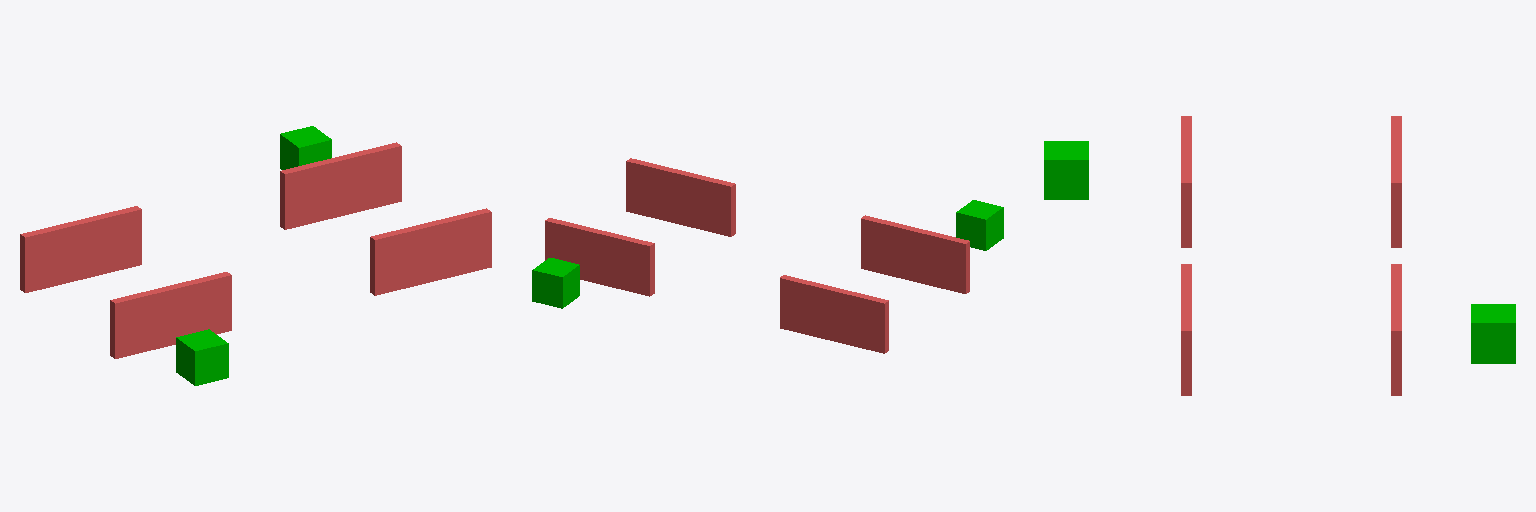
URDF robot description (maze3):
<?xml version="1.0"?>
  <robot name="maze3">
    <link name="base_link"/>

    <link name="table">
      <visual>
        <geometry>
          <mesh filename="[local-path]/rb_ws/src/robowflex/robowflex_dart/include/io/envs/meshes/maze3fix1.dae" scale = " 0.750 0.750 0.750"/>
        </geometry>
        <origin rpy="0 0 0" xyz="0 0 0" />

<material name = "">
          <color rgba="0.87450980392 0.87450980392 0.87058823529 1.0"/>
      </material>

      </visual>
      <collision>
        <geometry>
          <mesh filename="[local-path]/rb_ws/src/robowflex/robowflex_dart/include/io/envs/meshes/maze3fix1.dae" scale = " 0.750 0.750 0.750"/>
        </geometry>
        <origin rpy="0 0 0" xyz="0 0 0" />       
       </collision>
    </link>

    <link name="link_0">
      <visual>
        <geometry>
          <box size="0.1 0.1 0.1"/>
        </geometry>
        <origin rpy="0 0 0" xyz="0 0 0" />
      <material name = "">
          <color rgba="0.0 0.8 0.0 1.0"/>
      </material>
      </visual>
      <collision>
        <geometry>
          <box size="0.1 0.1 0.1"/>
        </geometry>
        <origin rpy="0 0 0" xyz="0 0 0" />       
       </collision>
    </link>


    <link name="cube_goal">
      <visual>
        <geometry>
          <box size="0.1 0.1 0.1"/>
        </geometry>
        <origin rpy="0 0 0" xyz="0 0 0" />
      <material name = "">
          <color rgba="0.0 0.8 0.0 0.4"/>
      </material>
      </visual>
    </link>


<link name ="cube_x"/>


     <link name="link_1">
      <visual>
        <geometry>
          <box size="0.35 0.025 0.16"/>
        </geometry>
        <origin rpy="0 0 0" xyz="0.0 0.0 0" />
        <material name = "">
          <color rgba="0.91372549019 0.39215686274 0.39215686274 1.0"/>
        </material>
      </visual>
      <collision>
        <geometry>
           <box size="0.35 0.025 0.16"/>
        </geometry>
        <origin rpy="0 0 0" xyz="0.0 0.0 0" />
        </collision>
    </link>

     <link name="link_2">
      <visual>
        <geometry>
          <box size="0.35 0.025 0.16"/>
        </geometry>
        <origin rpy="0 0 0" xyz="0.0 0.0 0" />
        <material name = "">
          <color rgba="0.91372549019 0.39215686274 0.39215686274 1.0"/>
        </material>
      </visual>
      <collision>
        <geometry>
           <box size="0.35 0.025 0.16"/>
        </geometry>
        <origin rpy="0 0 0" xyz="0.0 0.0 0" />
        </collision>
    </link>

     <link name="link_3">
      <visual>
        <geometry>
           <box size="0.35 0.025 0.16"/>
       </geometry>
        <origin rpy="0 0 0" xyz="0.0 0.0 0" />
        <material name = "">
          <color rgba="0.91372549019 0.39215686274 0.39215686274 1.0"/>
        </material>
      </visual>
      <collision>
        <geometry>
           <box size="0.35 0.025 0.16"/>
       </geometry>
        <origin rpy="0 0 0" xyz="0.0 0.0 0" />
        </collision>
    </link>

         <link name="link_4">
      <visual>
        <geometry>
           <box size="0.35 0.025 0.16"/>
       </geometry>
        <origin rpy="0 0 0" xyz="0.0 0.0 0" />
        <material name = "">
          <color rgba="0.91372549019 0.39215686274 0.39215686274 1.0"/>
        </material>
      </visual>
      <collision>
        <geometry>
           <box size="0.35 0.025 0.16"/>
       </geometry>
        <origin rpy="0 0 0" xyz="0.0 0.0 0" />
        </collision>
    </link>


<joint name="table_j" type="fixed">
    <origin rpy="0 0 0" xyz="0.9 -0.4 0.73" />
    <parent link="base_link" />
    <child link="table" />
    <axis xyz="0 1 0" />
  </joint>

<joint name="goal" type="fixed">
    <origin rpy="0 0 0" xyz="1.26 0.05 0.86" />
    <parent link="base_link" />
    <child link="cube_goal" />
</joint>

<joint name="link_0_joint_0" type="prismatic">
    <origin rpy="0 0 0" xyz="0.40 -0.9 0.86" />
    <parent link="base_link" />
    <child link="cube_x" />
   <axis xyz="1 0 0" />
  <limit lower="-0.07" upper="0.98" effort="0.05" velocity="1.57"/>
  </joint>


<joint name="link_0_joint_1" type="prismatic">
    <origin rpy="0 0 0" xyz="0.0 0 0.0" />
    <parent link="cube_x" />
    <child link="link_0" />
   <axis xyz="0 1 0" />
  <limit lower="-0.1" upper="1.11" effort="0.05" velocity="1.57"/>
  </joint>


    <joint name="link_1_joint_0" type="prismatic">
        <origin rpy="0 0 0" xyz="0.46 -0.634 0.86"/>
        <parent link="base_link"/>
        <child link="link_1"/>
        <axis xyz="1 0 0"/>
        <limit lower="0" upper="0.80" effort="5" velocity="1.57"/>
    </joint>

 <joint name="link_2_joint_0" type="prismatic">
    <origin rpy="0 0 0" xyz="0.46 -0.166 0.86"/>
        <parent link="base_link"/>
        <child link="link_2"/>
        <axis xyz="1 0 0"/>
        <limit lower="0" upper="0.80" effort="5" velocity="1.57"/>
  </joint>


    <joint name="link_3_joint_0" type="prismatic">
        <origin rpy="0 0 0" xyz="1.24 -0.634 0.86"/>
        <parent link="base_link"/>
        <child link="link_3"/>
        <axis xyz="1 0 0"/>
        <limit lower="-0.80" upper="0.0" effort="5" velocity="1.57"/>
    </joint>

 <joint name="link_4_joint_0" type="prismatic">
    <origin rpy="0 0 0" xyz="1.24 -0.166 0.86"/>
        <parent link="base_link"/>
        <child link="link_4"/>
        <axis xyz="1 0 0"/>
        <limit lower="-0.80" upper="0.0" effort="5" velocity="1.57"/>
  </joint>


</robot>

--- Render facts (derived) ---
The picture shows the robot from 3 angles, left to right: view 1: azimuth 30°, elevation 25°; view 2: azimuth 150°, elevation 25°; view 3: azimuth 270°, elevation 25°; orthographic projection.
Robot: maze3 — 9 links, 8 joints (6 prismatic, 2 fixed); root link base_link; default pose: all joints at 0.
Links seen in each view (by area): view 1: link_4, link_3, link_2, link_1, link_0, cube_goal; view 2: link_3, link_2, link_1, link_4, cube_goal, link_0; view 3: cube_goal, link_0, link_1, link_2, link_3, link_4.
Link boxes in pixels (box(x1,y1,x2,y2)): link_4: box(280, 142, 401, 229); link_3: box(370, 208, 491, 295); link_2: box(20, 206, 141, 292); link_1: box(110, 272, 231, 358); link_0: box(176, 329, 228, 385); cube_goal: box(280, 126, 331, 169); link_3: box(626, 158, 735, 236); link_2: box(780, 275, 888, 353); link_1: box(861, 215, 969, 293); link_4: box(545, 218, 654, 296); cube_goal: box(532, 258, 579, 308); link_0: box(956, 200, 1003, 250); cube_goal: box(1471, 304, 1515, 363); link_0: box(1044, 141, 1088, 199); link_1: box(1181, 116, 1191, 247); link_2: box(1391, 116, 1401, 247); link_3: box(1181, 264, 1191, 395); link_4: box(1391, 264, 1401, 395).
Size in the robot's own frame: 1.13 by 1.05 by 0.16 metres.
Geometry: only primitive shapes (box / cylinder / sphere) drawn; not drawn: 1 mesh visual (reference in a form the renderer does not follow).